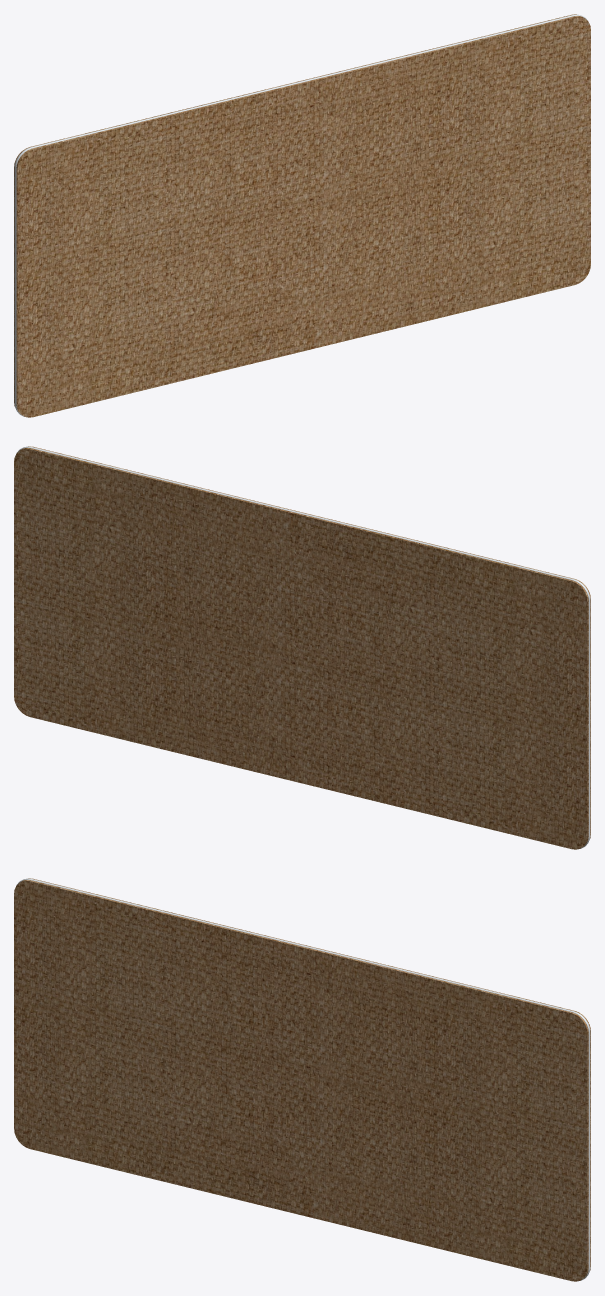
Rendered from PRIVACY_PANEL.gltf.
3 renders of one model, top to bottom at view 1: azimuth 30°, elevation 25°; view 2: azimuth 150°, elevation 25°; view 3: azimuth 330°, elevation 25°, orthographic.
Visible parts, largest first — view 1: 18mm THK PRIVACY PANEL; view 2: 18mm THK PRIVACY PANEL; view 3: 18mm THK PRIVACY PANEL.
Boxes of the visible parts, x1,y1,x2,y2 form: 18mm THK PRIVACY PANEL: [14, 14, 590, 417]; 18mm THK PRIVACY PANEL: [14, 446, 590, 849]; 18mm THK PRIVACY PANEL: [14, 878, 590, 1281].
Bounding box in the file's own units: 1.8 × 0.8059 × 0.018.
Materials: 2 (1 with a texture image).
